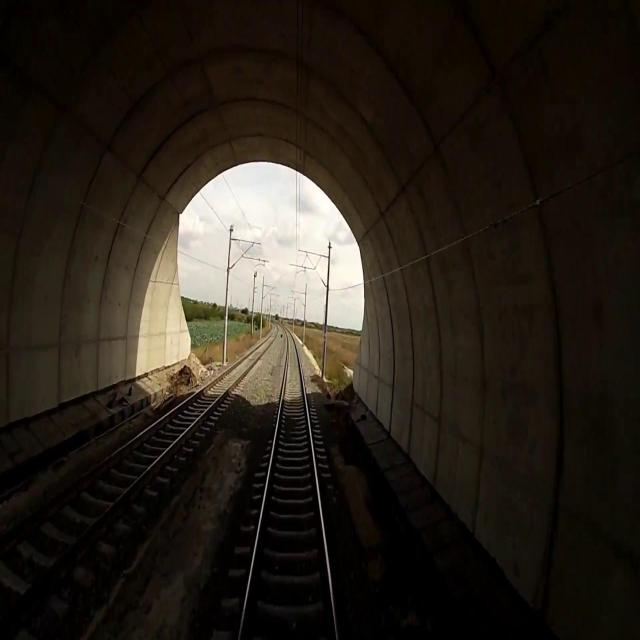rail-track: (0, 327, 276, 610), (242, 334, 334, 639)
